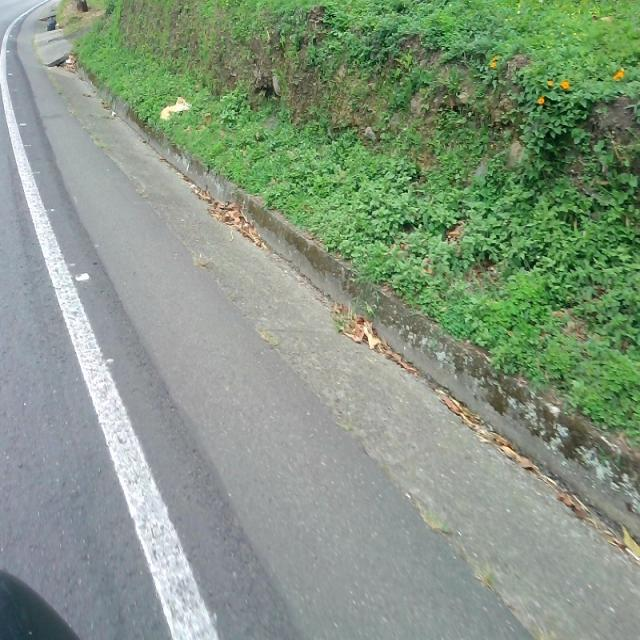DITCH: (1, 3, 639, 637), (6, 1, 638, 638)
